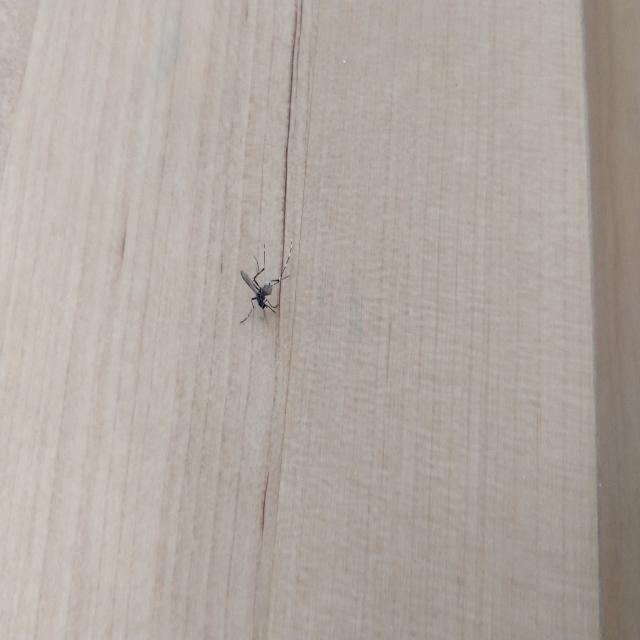albopictus: (236, 228, 293, 337)
